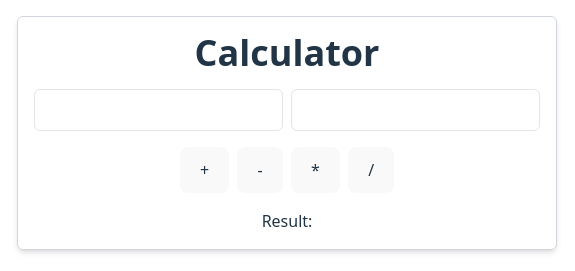
HomePage Calculator › subtracts two numbers correctly
Step 1. Type "10" into the 1st field → (158, 110), box [34,89,283,131]
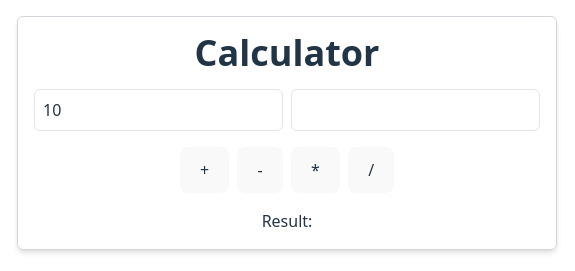
Step 2. Type "5" into the 2nd field → (416, 110), box [291,89,540,131]
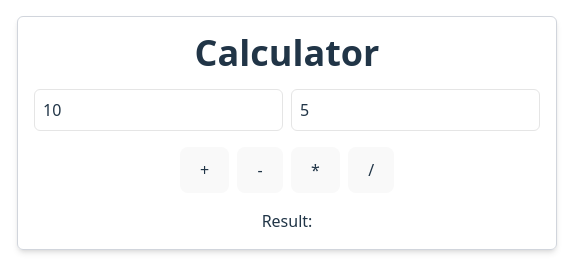
Step 3. Click the button "-" → (260, 170), box [237,147,283,193]
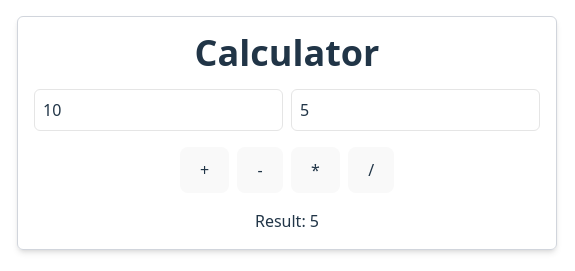
Expected: the text "Result: 5" is shown, [255,209,319,233]
